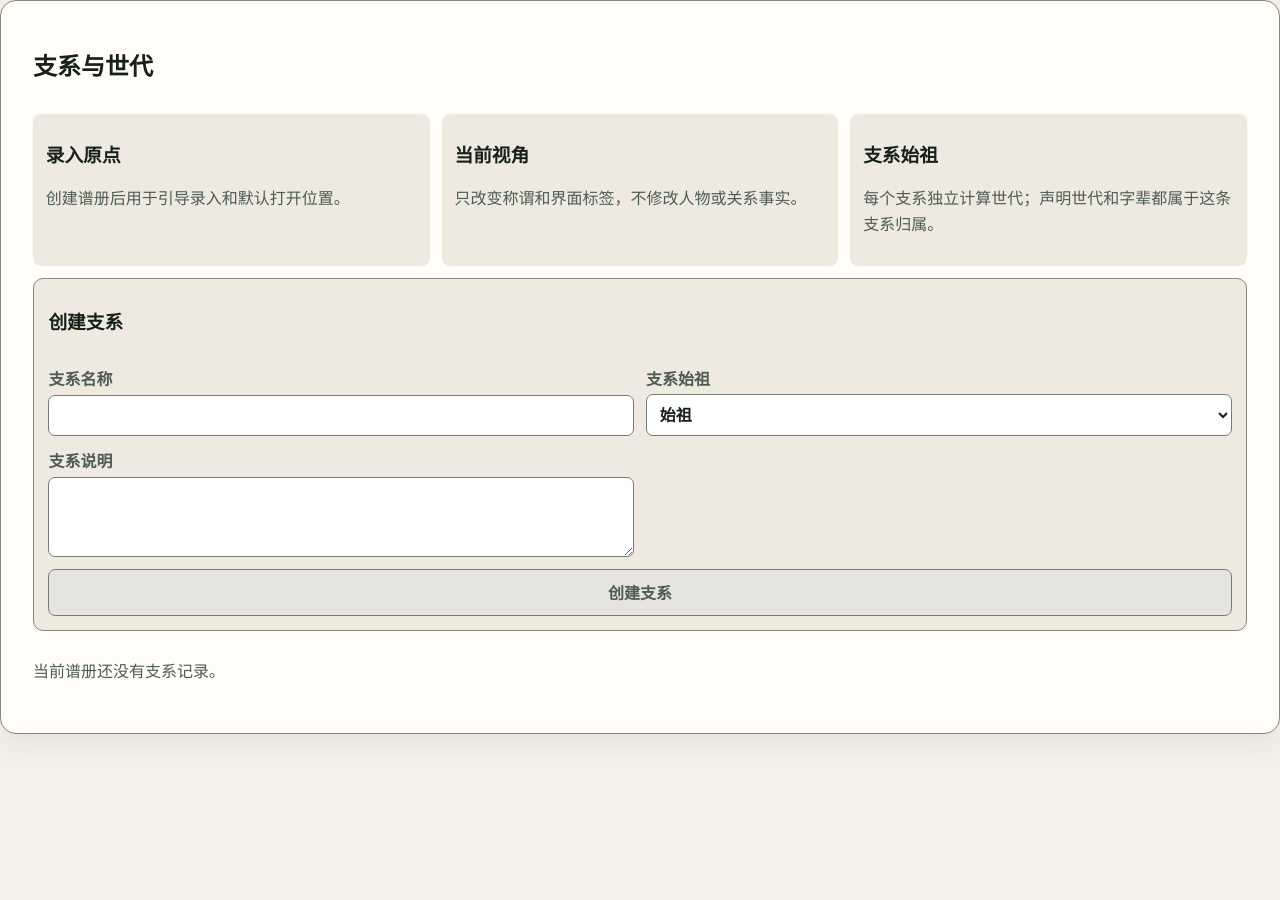
LineageSettings › stages Web lineage changes before the legacy lineage gateway
This screenshot has width=1280, height=900.
Type "长房" into the field labelled "支系名称" at point(341, 415), box 48,395 -> 634,436
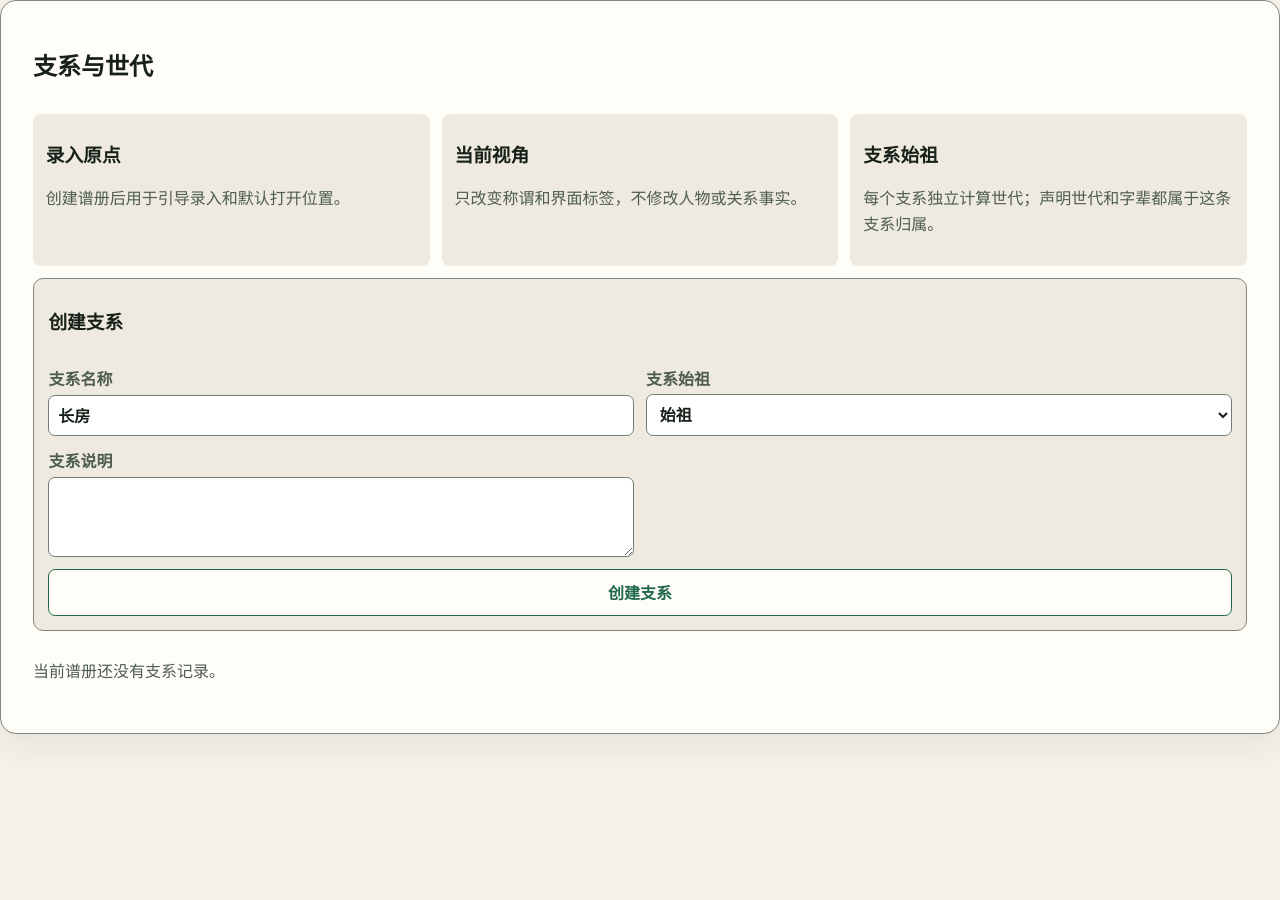
Select "始祖" in the dropdown labelled "支系始祖" at point(939, 415), box 646,394 -> 1232,436
Click the button "创建支系" at point(640, 592), box 48,569 -> 1232,616
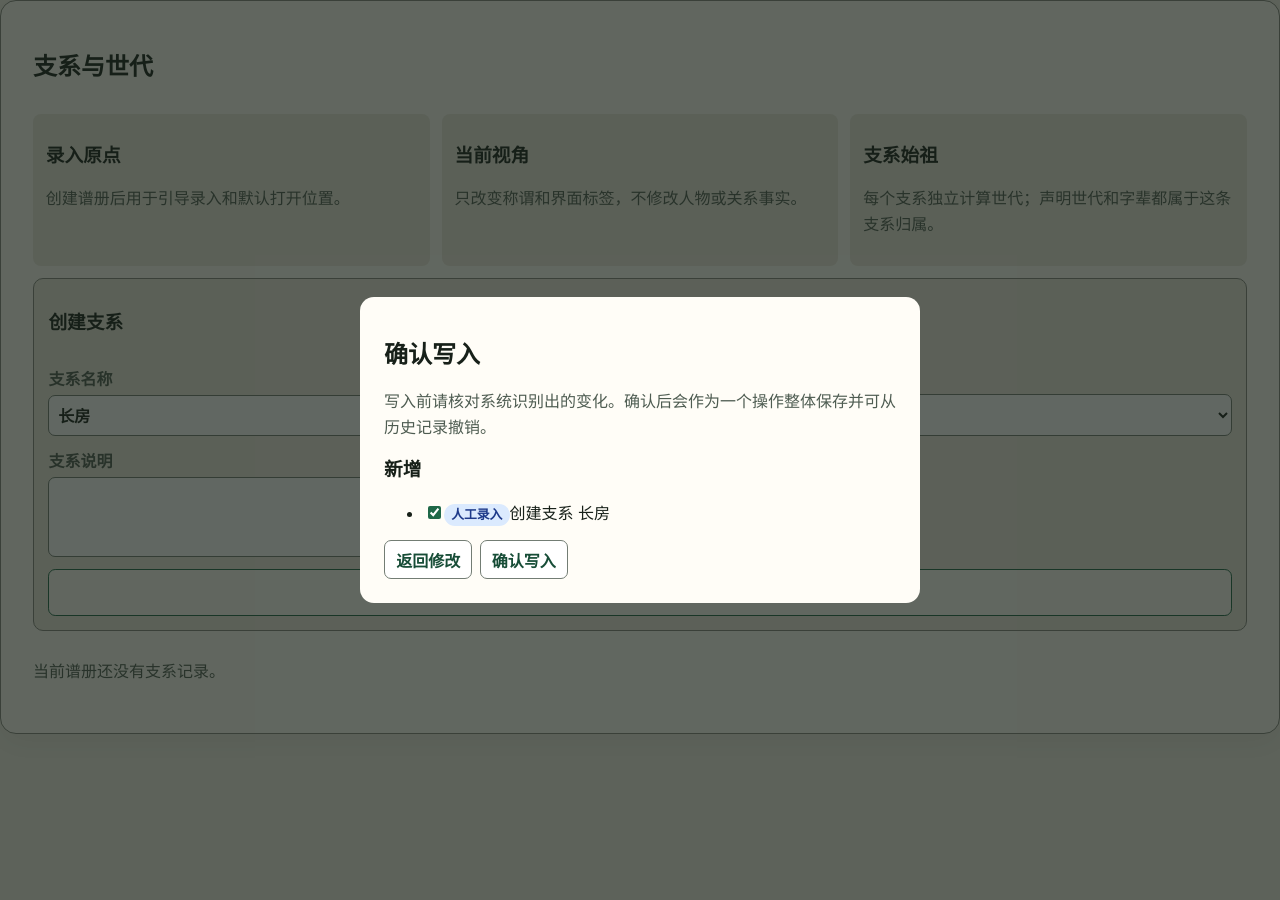
Result: the dialog "确认写入" is shown at 360,297 -> 920,603
